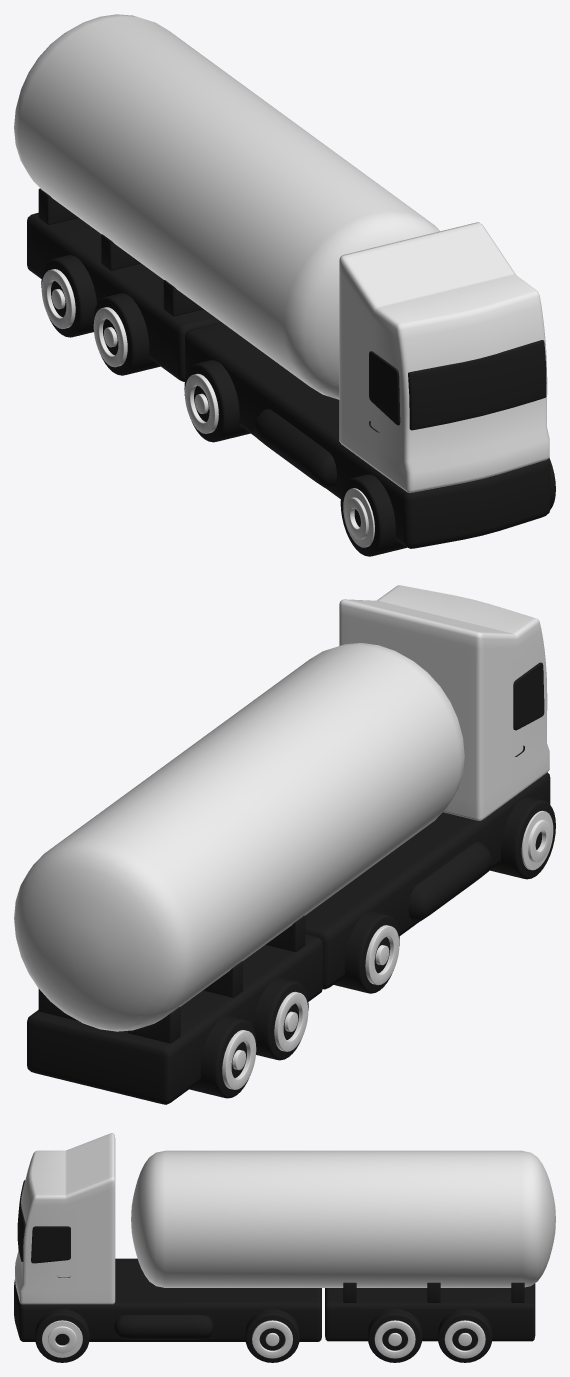
File: truck.glb
The picture shows the model from 3 angles, top to bottom: view 1: azimuth 30°, elevation 25°; view 2: azimuth 150°, elevation 25°; view 3: azimuth 270°, elevation 25°; orthographic projection. The views are drawn at different scales.
Visible parts, largest first — view 1: Tank_lopo, Car_cabin_lopo, Car_base_lopo, Trailer_base_lopo, Car_windshield_lopo, Car_tank_lopo, Car_wheel_base_lopo, Car_wheel_base_lopo.002, Car_wheel_base_lopo.001, Tank_supports_lopo, Car_wheel_base_lopo.003, Car_door_window_lopo (+4 smaller); view 2: Tank_lopo, Car_cabin_lopo, Trailer_base_lopo, Car_base_lopo, Car_tank_lopo, Tank_supports_lopo, Car_wheel_base_lopo.003, Car_wheel_base_lopo, Car_wheel_base_lopo.001, Car_wheel_base_lopo.002, Car_door_window_lopo, Car_wheel_detail_back_lopo (+3 smaller); view 3: Tank_lopo, Car_cabin_lopo, Car_base_lopo, Trailer_base_lopo, Car_tank_lopo, Car_wheel_base_lopo.002, Car_wheel_base_lopo.003, Car_wheel_base_lopo.001, Car_door_window_lopo, Car_wheel_base_lopo, Car_wheel_detail_front_lopo, Car_wheel_detail_back_lopo.002 (+4 smaller).
Part boxes in pixels (x1,y1,x2,y2): Tank_lopo: [14, 14, 439, 399]; Car_cabin_lopo: [339, 222, 549, 492]; Car_base_lopo: [185, 322, 550, 548]; Trailer_base_lopo: [27, 212, 221, 381]; Car_windshield_lopo: [408, 340, 546, 430]; Car_tank_lopo: [253, 409, 337, 488]; Car_wheel_base_lopo: [340, 458, 555, 556]; Car_wheel_base_lopo.002: [93, 293, 160, 375]; Car_wheel_base_lopo.001: [184, 360, 250, 442]; Tank_supports_lopo: [38, 188, 203, 316]; Car_wheel_base_lopo.003: [41, 255, 96, 337]; Car_door_window_lopo: [369, 351, 400, 432]; Tank_lopo: [14, 643, 464, 1031]; Car_cabin_lopo: [339, 585, 549, 820]; Trailer_base_lopo: [27, 934, 322, 1104]; Car_base_lopo: [305, 772, 550, 989]; Car_tank_lopo: [408, 842, 492, 921]; Tank_supports_lopo: [38, 915, 305, 1043]; Car_wheel_base_lopo.003: [189, 1016, 256, 1098]; Car_wheel_base_lopo: [490, 797, 555, 879]; Car_wheel_base_lopo.001: [333, 911, 399, 993]; Car_wheel_base_lopo.002: [253, 978, 308, 1060]; Car_door_window_lopo: [513, 662, 544, 756]; Car_wheel_detail_back_lopo: [365, 925, 399, 985]; Tank_lopo: [131, 1150, 555, 1287]; Car_cabin_lopo: [15, 1133, 115, 1304]; Car_base_lopo: [14, 1258, 321, 1341]; Trailer_base_lopo: [325, 1283, 535, 1341]; Car_tank_lopo: [114, 1315, 213, 1339]; Car_wheel_base_lopo.002: [367, 1308, 422, 1362]; Car_wheel_base_lopo.003: [438, 1308, 492, 1362]; Car_wheel_base_lopo.001: [245, 1309, 299, 1362]; Car_door_window_lopo: [31, 1226, 70, 1277]; Car_wheel_base_lopo: [35, 1309, 89, 1362]; Car_wheel_detail_front_lopo: [42, 1320, 82, 1357]; Car_wheel_detail_back_lopo.002: [444, 1320, 485, 1358].
Size of the model in its own units: 103 by 141 by 387.
Materials: 1 (1 with a texture image).
